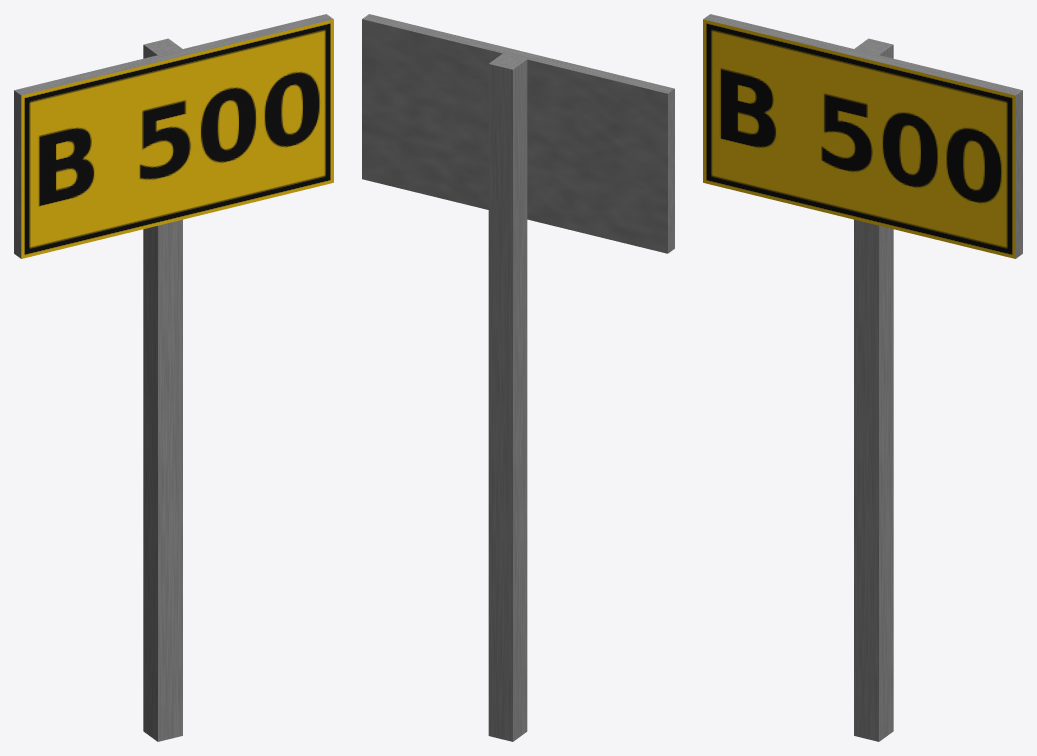
File: SM_sign_b500.fbx
3 views of the same model, side by side, from view 1: azimuth 30°, elevation 25°; view 2: azimuth 150°, elevation 25°; view 3: azimuth 330°, elevation 25° (orthographic). The views are drawn at different scales.
Parts seen in each view (by area): view 1: SM_sign_b500; view 2: SM_sign_b500; view 3: SM_sign_b500.
Boxes of the visible parts, left/top/right/bottom form: SM_sign_b500: left=14, top=14, right=333, bottom=741; SM_sign_b500: left=362, top=14, right=674, bottom=741; SM_sign_b500: left=703, top=14, right=1022, bottom=741.
Bounding box in the file's own units: 1 × 2.1 × 0.12.
